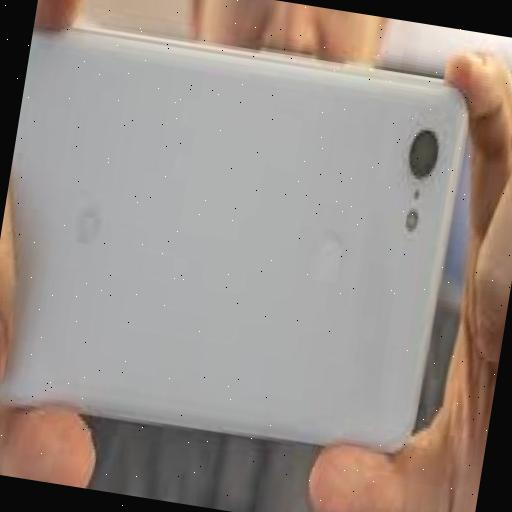phone: (0, 20, 491, 486)
